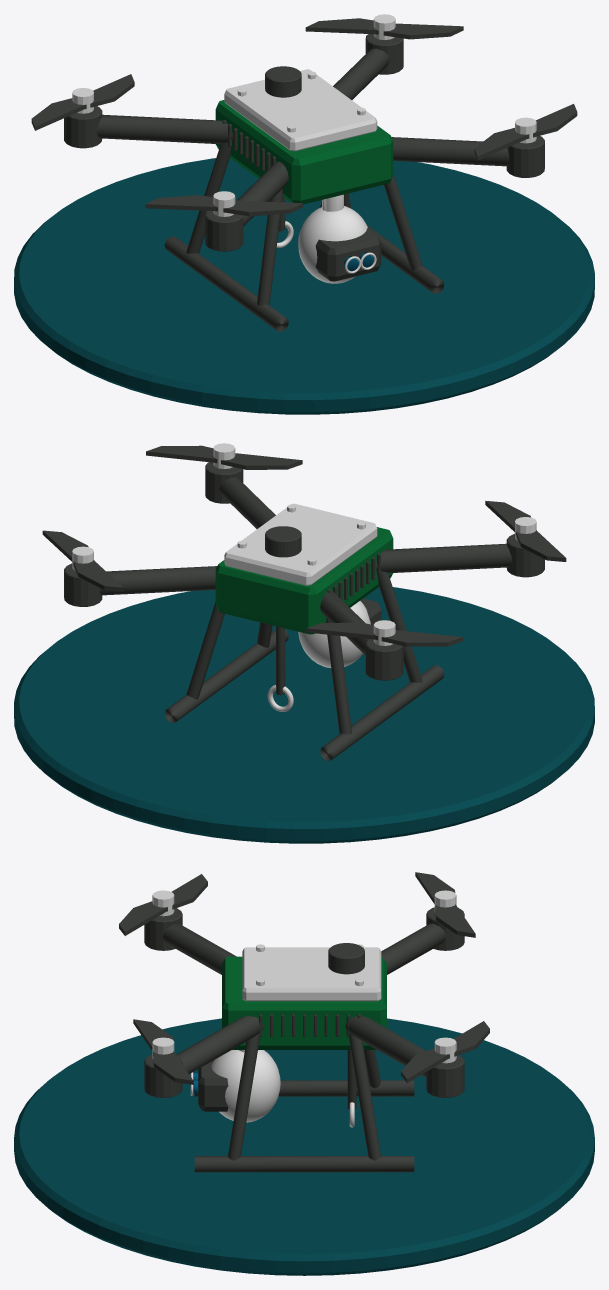
File: elistair-khronos.glb
3 views of the same model, one above another, from view 1: azimuth 30°, elevation 25°; view 2: azimuth 150°, elevation 25°; view 3: azimuth 270°, elevation 25° (orthographic).
Parts seen in each view (by area): view 1: pedestal, body; view 2: pedestal, body; view 3: pedestal, body.
Boxes of the visible parts, x1,y1,x2,y2 form: pedestal: (14, 158, 594, 414); body: (31, 14, 577, 331); pedestal: (14, 587, 594, 843); body: (42, 443, 566, 760); pedestal: (14, 1018, 594, 1275); body: (119, 872, 489, 1172).
Size of the model in its own units: 4.4 by 1.71 by 4.4.
